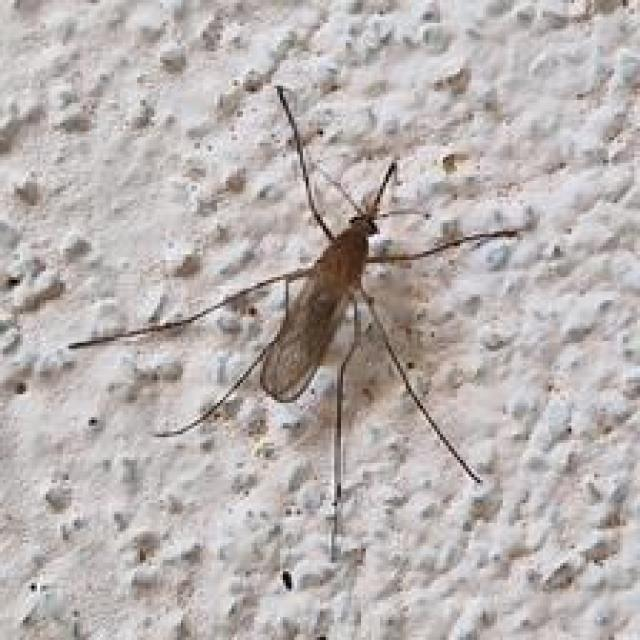Culex: (67, 83, 524, 574)
